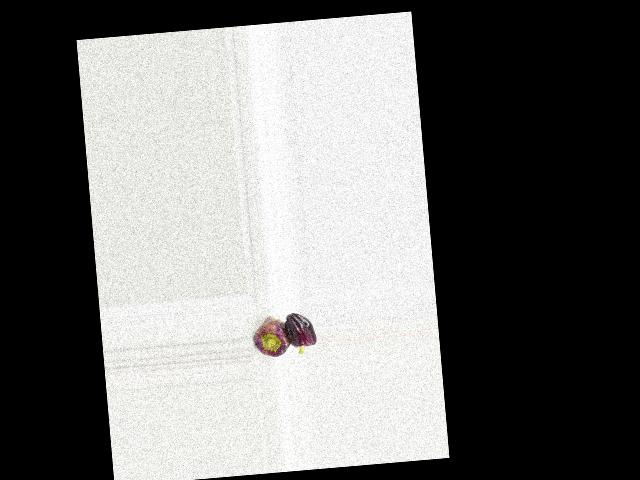bell_pepper: (250, 307, 293, 366)
